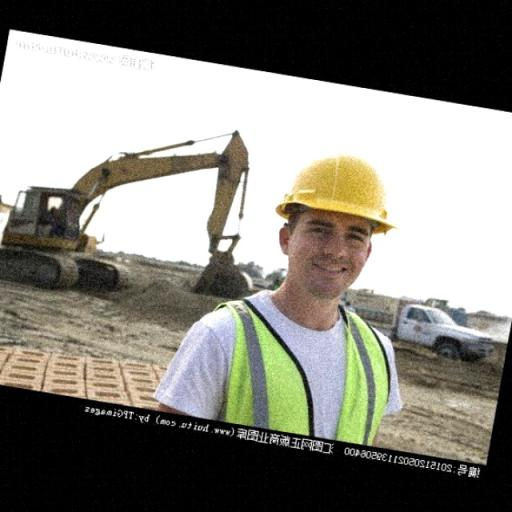Person: (160, 132, 444, 455)
helmet: (270, 150, 397, 232)
none: (290, 212, 390, 257)
vest: (212, 296, 406, 454)
